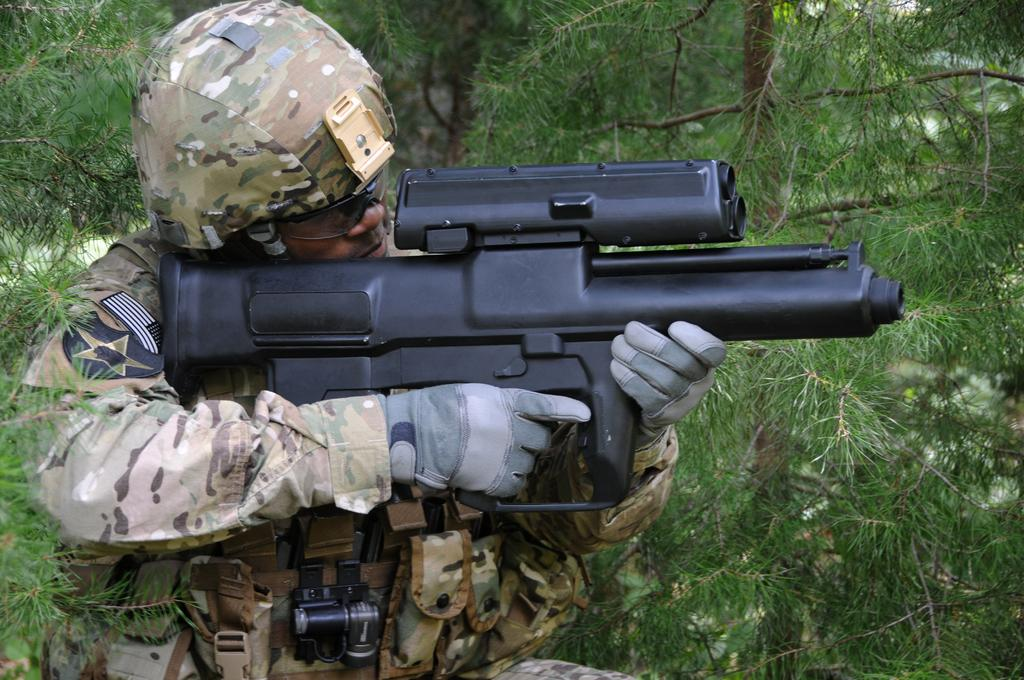Rifle: (99, 169, 993, 533)
